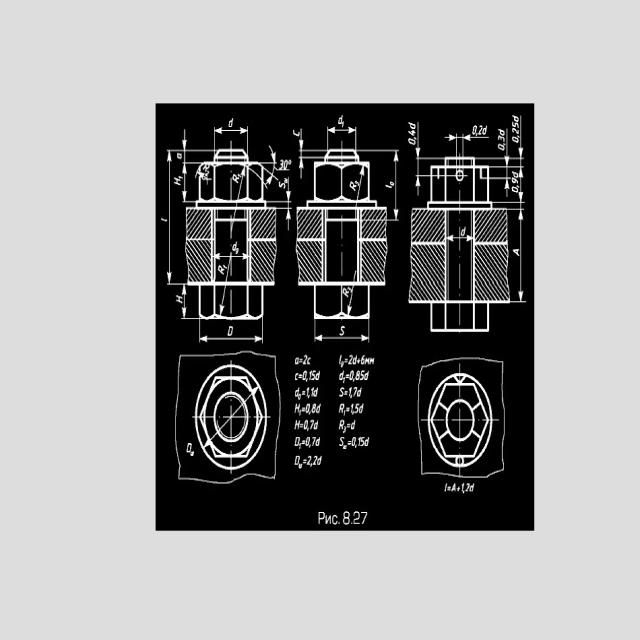marking_line: (164, 152, 174, 283), (518, 210, 524, 302), (393, 152, 400, 218), (316, 335, 369, 343), (201, 336, 261, 343), (329, 124, 355, 136), (503, 128, 511, 164), (217, 126, 247, 135), (182, 165, 189, 202), (465, 132, 490, 142), (215, 252, 245, 260), (181, 285, 188, 317), (415, 120, 421, 156), (519, 115, 524, 156), (285, 177, 294, 199), (447, 235, 473, 242), (502, 182, 512, 200), (518, 168, 523, 202), (300, 126, 306, 152), (286, 210, 291, 233), (181, 131, 187, 148), (298, 159, 303, 178), (416, 176, 420, 198), (445, 133, 454, 142)
numeric: (280, 159, 288, 173)
special_symbol: (262, 147, 278, 189)
